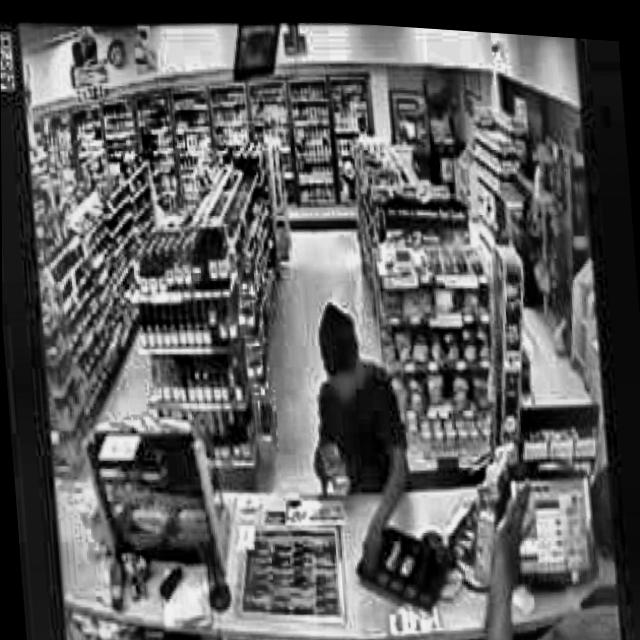robbery: (294, 287, 422, 582), (465, 450, 620, 640)
